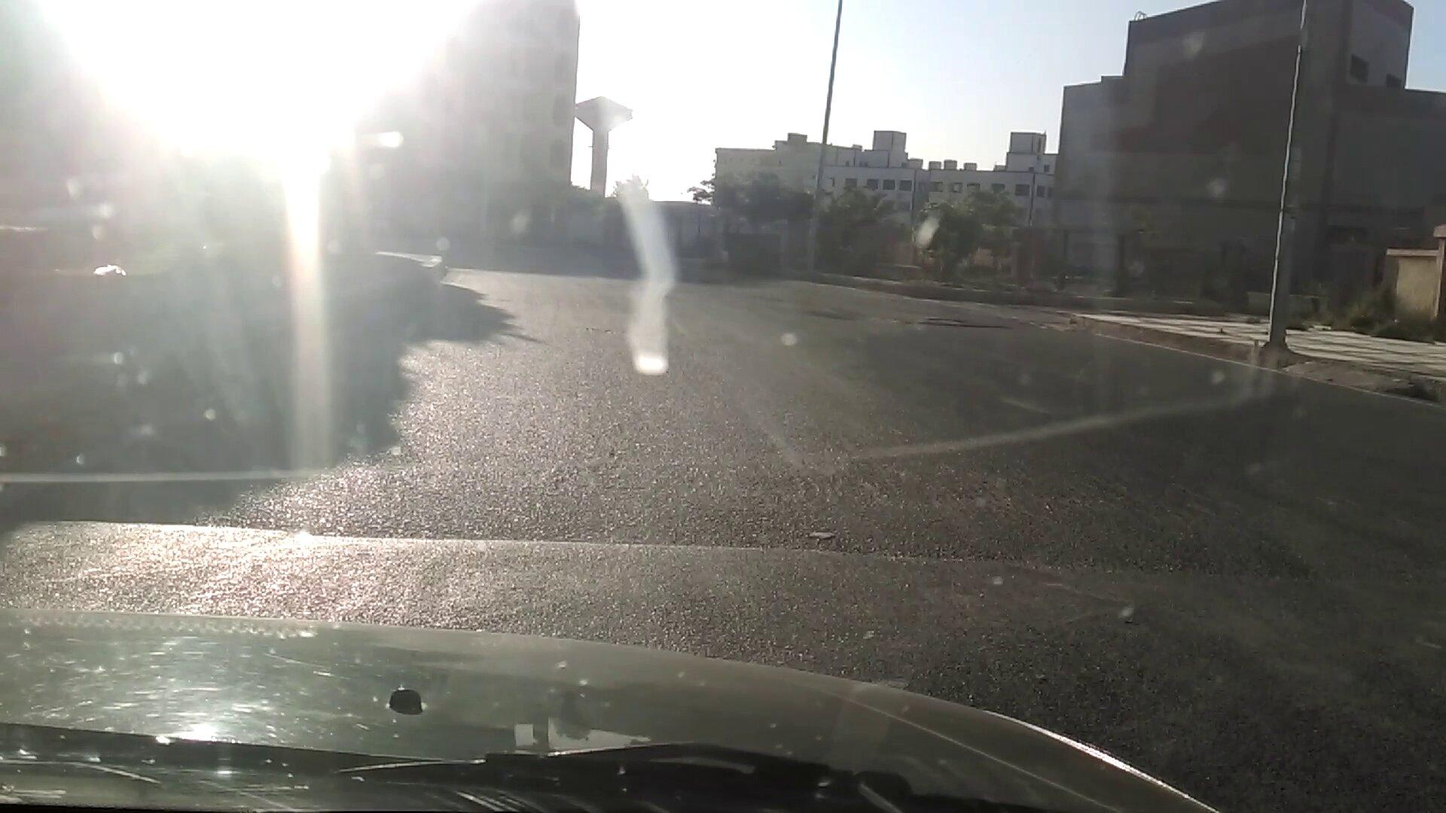Bump: (38, 523, 1446, 781)
